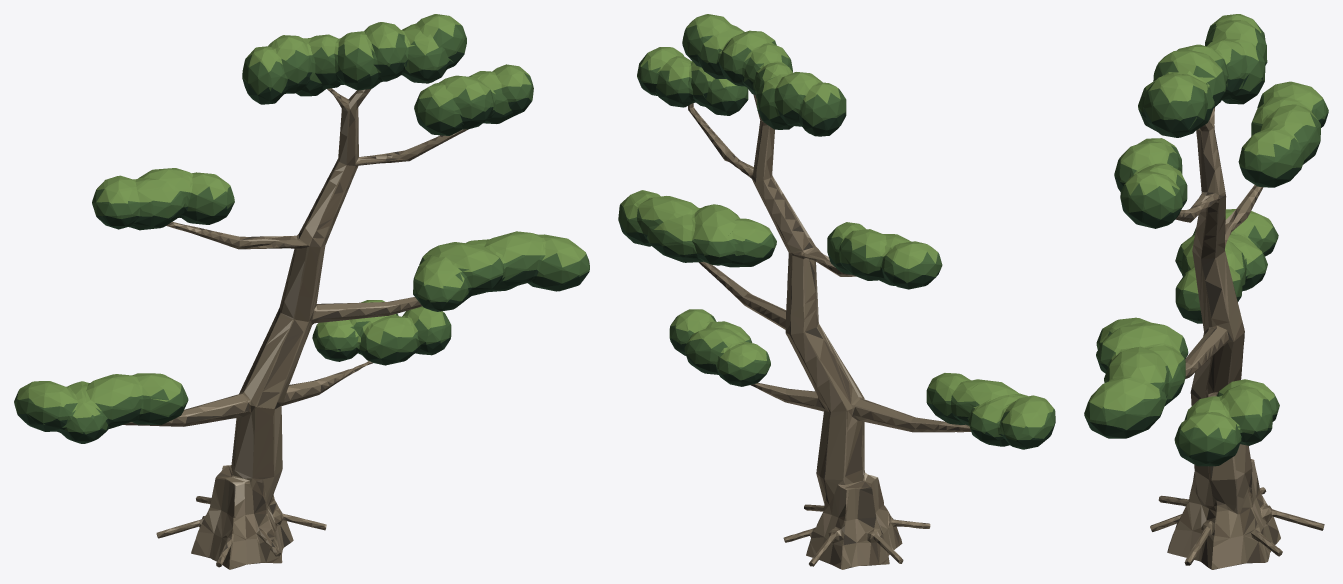
The model's file is ancient-pine-811-v2-aged.glb.
The picture shows the model from 3 angles, left to right: view 1: azimuth 30°, elevation 25°; view 2: azimuth 150°, elevation 25°; view 3: azimuth 270°, elevation 25°; orthographic projection. The views are drawn at different scales.
Visible parts, largest first — view 1: n8.002, n12.002, n11.002, n10.002, n9.002; view 2: n8.002, n12.002, n11.002, n10.002, n9.002; view 3: n12.002, n8.002, n11.002, n10.002, n9.002.
Part boxes in pixels (x1,y1,x2,y2): n8.002: [169, 88, 416, 569]; n12.002: [17, 14, 586, 418]; n11.002: [14, 24, 589, 434]; n10.002: [14, 51, 589, 443]; n9.002: [123, 88, 468, 569]; n8.002: [721, 94, 921, 569]; n12.002: [621, 14, 1053, 427]; n11.002: [618, 25, 1055, 440]; n10.002: [618, 43, 1055, 449]; n9.002: [688, 103, 971, 566]; n12.002: [1089, 14, 1323, 438]; n8.002: [1168, 107, 1283, 569]; n11.002: [1084, 23, 1328, 456]; n10.002: [1085, 62, 1328, 466]; n9.002: [1150, 185, 1324, 569].
Size of the model in its own units: 5.9 by 5.61 by 2.2.
